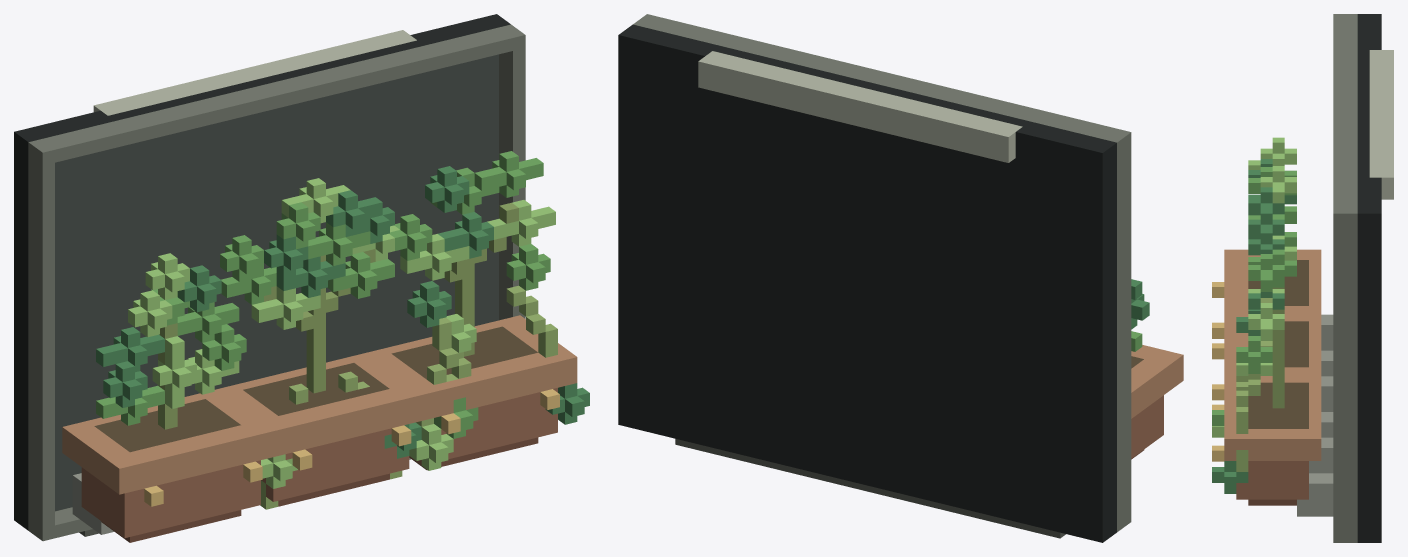
The model's file is plantes_murales.glb.
3 views of the same model, side by side, from view 1: azimuth 30°, elevation 25°; view 2: azimuth 150°, elevation 25°; view 3: azimuth 270°, elevation 25° (orthographic). The views are drawn at different scales.
Parts seen in each view (by area): view 1: Voxels panel, Voxels frame, Voxels potLight, Voxels leaf, Voxels pot, Voxels leafLight, Voxels leafDark, Voxels back, Voxels soil, Voxels stem, Voxels hanger, Voxels vine (+3 smaller); view 2: Voxels back, Voxels frame, Voxels hanger, Voxels potLight, Voxels mount, Voxels pot, Voxels leafDark; view 3: Voxels frame, Voxels back, Voxels potLight, Voxels soil, Voxels leafDark, Voxels leaf, Voxels bracket, Voxels hanger, Voxels leafLight, Voxels pot, Voxels vine, Voxels stem (+2 smaller).
Part boxes in pixels (x1,y1,x2,y2): Voxels panel: (55,54,498,511); Voxels frame: (28,24,525,541); Voxels potLight: (62,315,577,494); Voxels leaf: (96,151,550,438); Voxels pot: (81,388,557,537); Voxels leafLight: (128,178,555,488); Voxels leafDark: (96,166,589,458); Voxels back: (14,14,510,530); Voxels soil: (94,326,537,452); Voxels stem: (158,202,518,429); Voxels hanger: (93,30,416,115); Voxels vine: (260,285,557,509); Voxels back: (618,24,1116,542); Voxels frame: (633,14,1131,532); Voxels hanger: (698,51,1022,162); Voxels potLight: (1131,345,1183,418); Voxels mount: (675,439,1065,538); Voxels pot: (1131,395,1163,458); Voxels leafDark: (1131,279,1149,329); Voxels frame: (1333,14,1357,542); Voxels back: (1357,14,1381,542); Voxels potLight: (1224,249,1321,460); Voxels soil: (1248,260,1308,428); Voxels leafDark: (1212,159,1296,493); Voxels leaf: (1212,167,1296,425); Voxels bracket: (1297,314,1333,516); Voxels hanger: (1369,50,1393,199); Voxels leafLight: (1212,137,1296,437); Voxels pot: (1236,461,1308,499); Voxels vine: (1236,341,1272,471); Voxels stem: (1260,287,1284,408).
Size of the model in its own units: 3.9 by 3.1 by 1.5.
